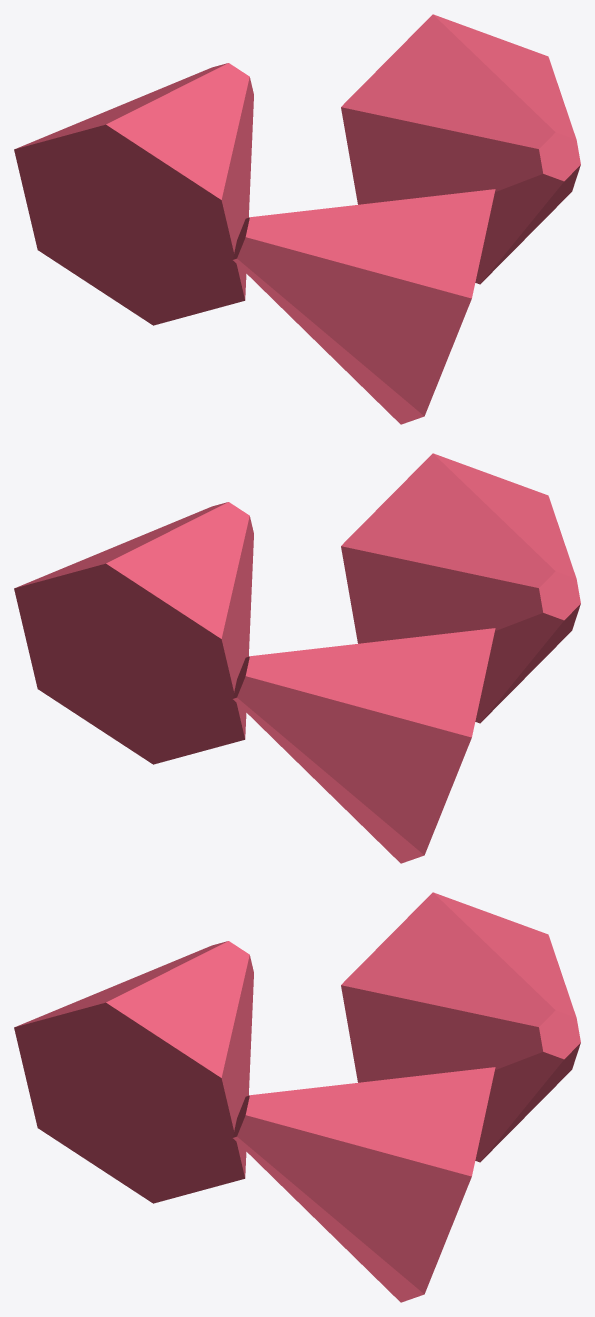
Rendered from TopStrawberry.fbx.
The picture shows the model from 3 angles, top to bottom: view 1: azimuth 30°, elevation 25°; view 2: azimuth 150°, elevation 25°; view 3: azimuth 270°, elevation 25°; orthographic projection.
Parts seen in each view (by area): view 1: TopStrawberry; view 2: TopStrawberry; view 3: TopStrawberry.
Part boxes in pixels (box(x1,y1,x2,y2)): TopStrawberry: box(14, 14, 580, 424); TopStrawberry: box(14, 453, 580, 863); TopStrawberry: box(14, 892, 580, 1302).
Bounding box in the file's own units: 0.0911 × 0.0413 × 0.0901.
